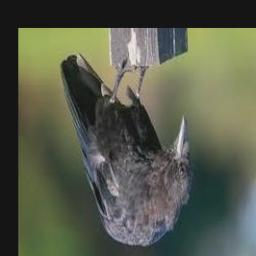Crow: (60, 53, 192, 247)
